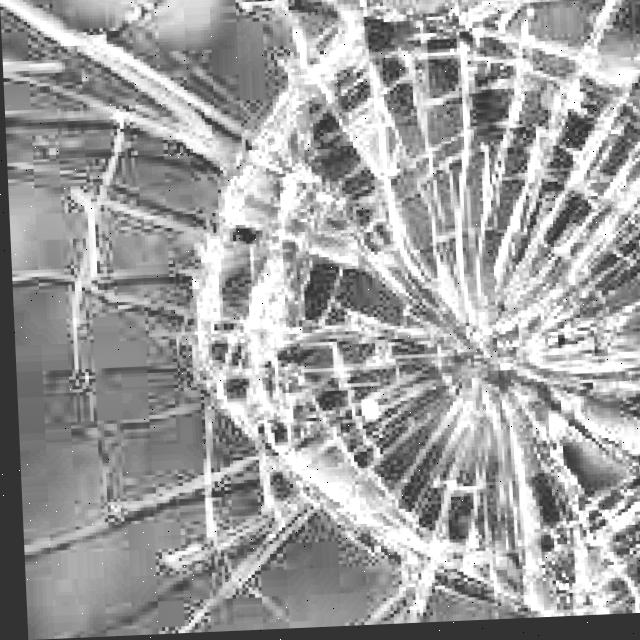glass_shatter: (224, 21, 640, 617)
